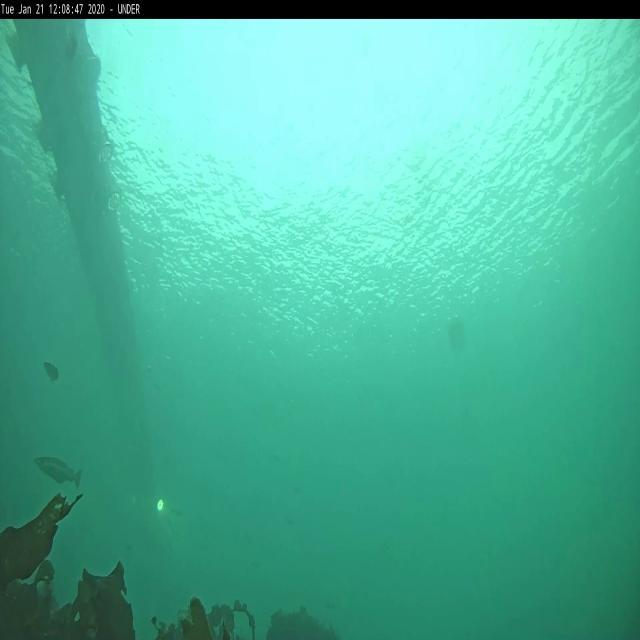fish: (33, 453, 84, 488), (44, 361, 60, 381)
